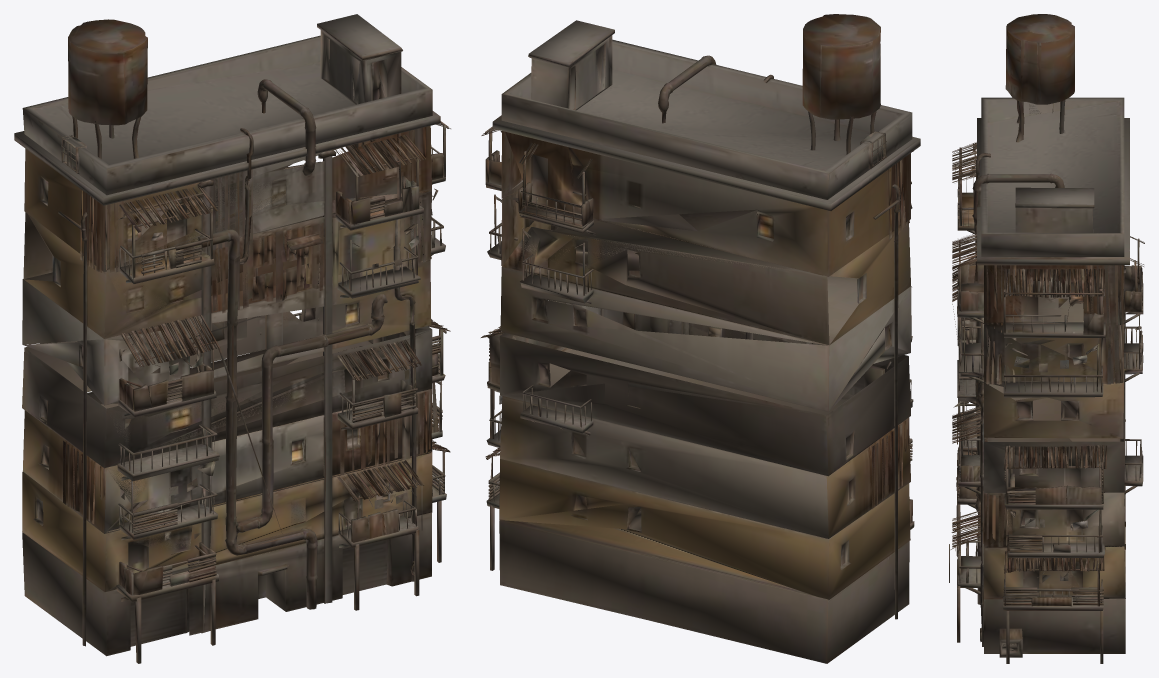
File: tenement.glb
3 renders of one model, left to right at view 1: azimuth 30°, elevation 25°; view 2: azimuth 150°, elevation 25°; view 3: azimuth 270°, elevation 25°, orthographic. The views are drawn at different scales.
Size of the model in its own units: 0.6201 by 0.9536 by 0.3354.
Materials: 1 (1 with a texture image).
